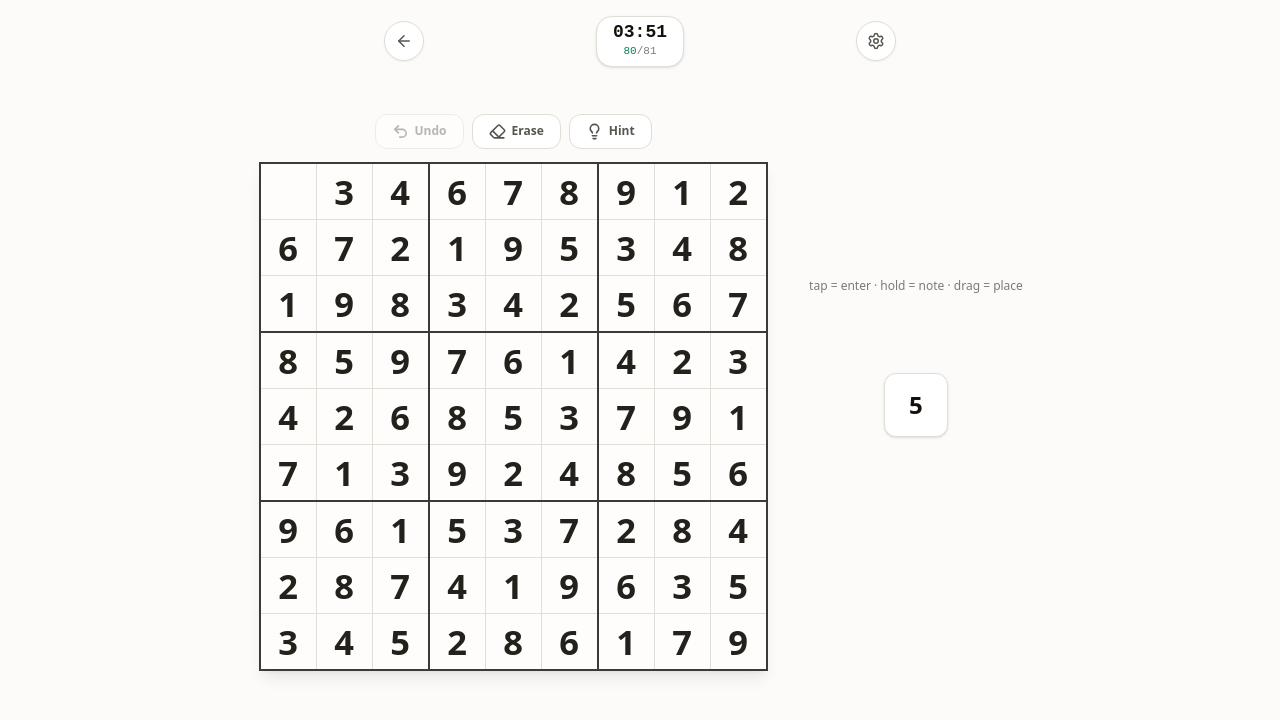
Test: SoloGame challenge › on the win › keeps challenge links off the daily, whose board depends on the date
The image size is (1280, 720).
Click the cell named "Cell row 1 column 1, empty" at [288, 192], box top-left (261, 164), bottom-right (316, 219)
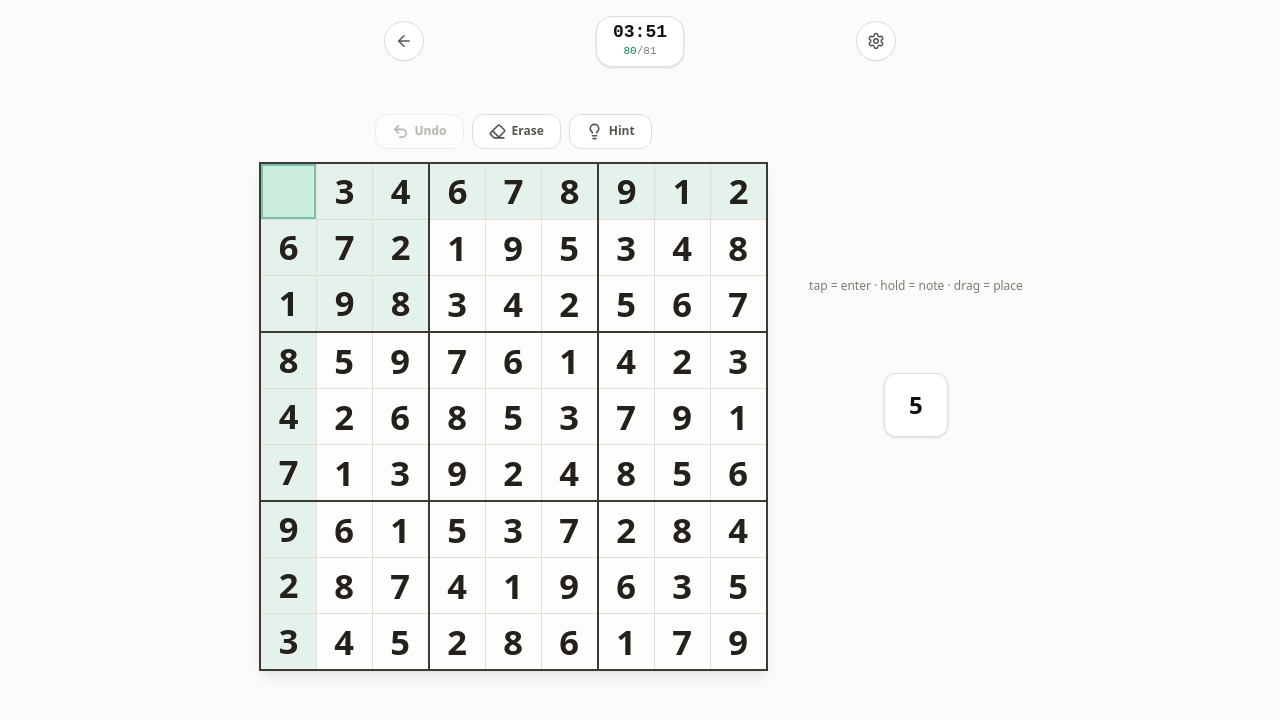
Press 5
Wait 400 ms
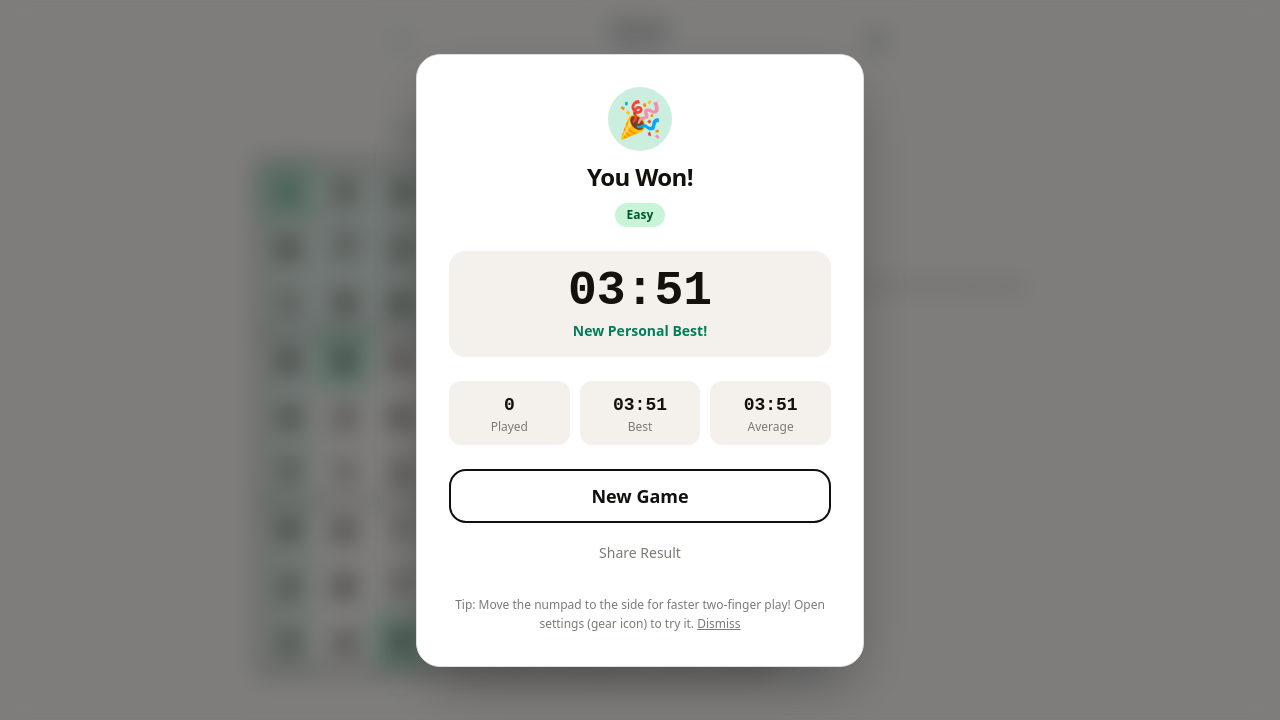
Check: the heading "You Won!" is shown, box top-left (587, 160), bottom-right (693, 192)
